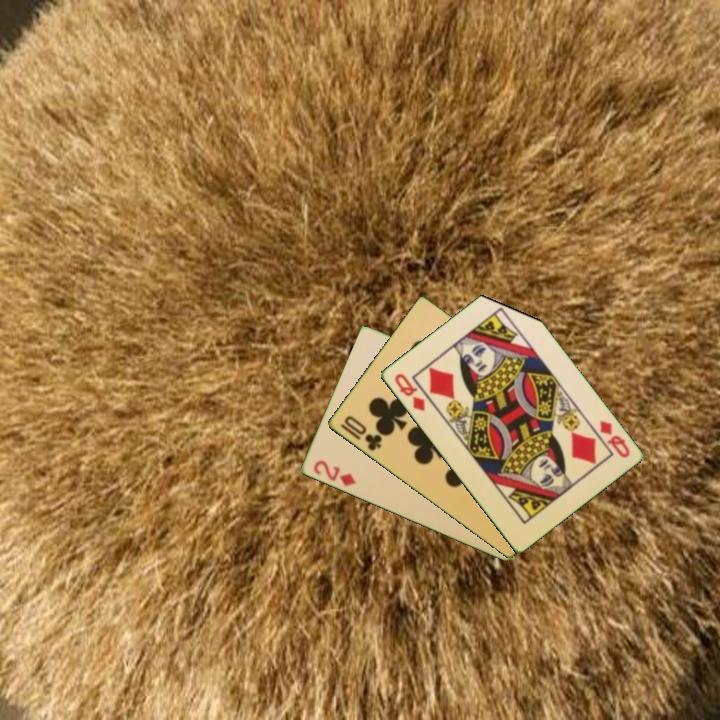10c: (336, 412, 385, 454)
2d: (309, 457, 359, 489)
Qd: (390, 370, 428, 414), (596, 417, 633, 461)
